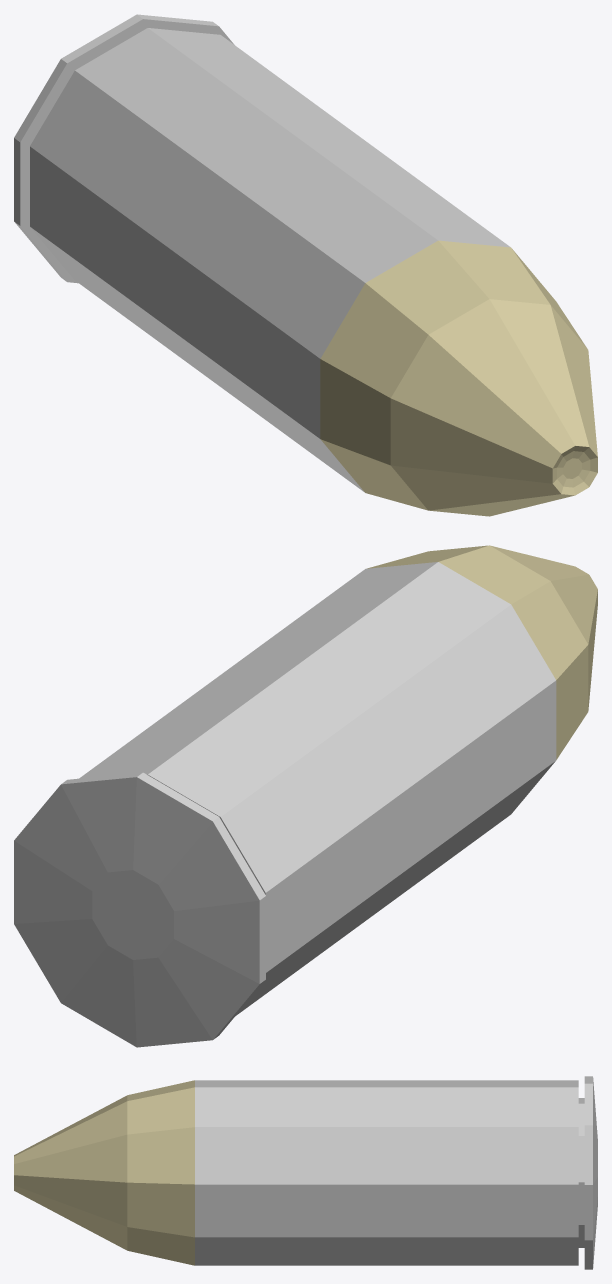
Rendered from SM_Bullet.fbx.
3 renders of one model, top to bottom at view 1: azimuth 30°, elevation 25°; view 2: azimuth 150°, elevation 25°; view 3: azimuth 270°, elevation 25°, orthographic. The views are drawn at different scales.
Visible parts, largest first — view 1: SM_Bullet; view 2: SM_Bullet; view 3: SM_Bullet.
Part boxes in pixels (left/top/right/bottom): SM_Bullet: left=14, top=14, right=597, bottom=516; SM_Bullet: left=14, top=545, right=597, bottom=1047; SM_Bullet: left=14, top=1076, right=597, bottom=1269.
Bounding box in the file's own units: 1.88 × 1.98 × 5.87.
